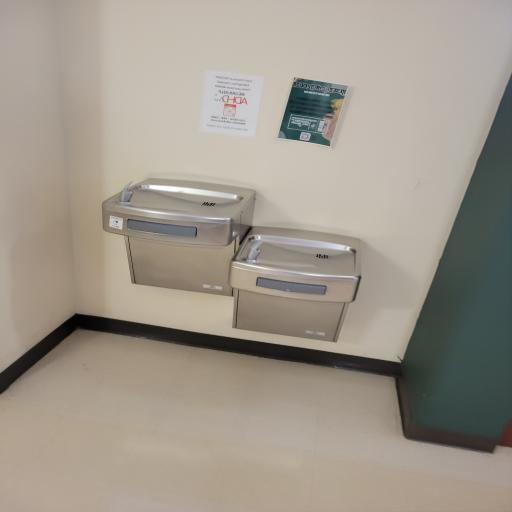water fountain: (94, 178, 260, 303), (220, 227, 370, 341)
